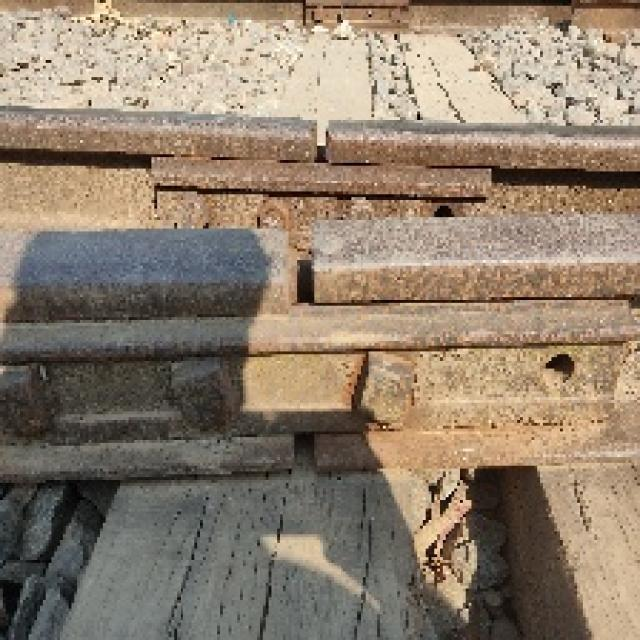Defective Joint: (0, 299, 629, 441), (148, 150, 495, 232)
